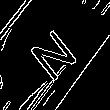N_SE: (25, 22, 85, 88)
